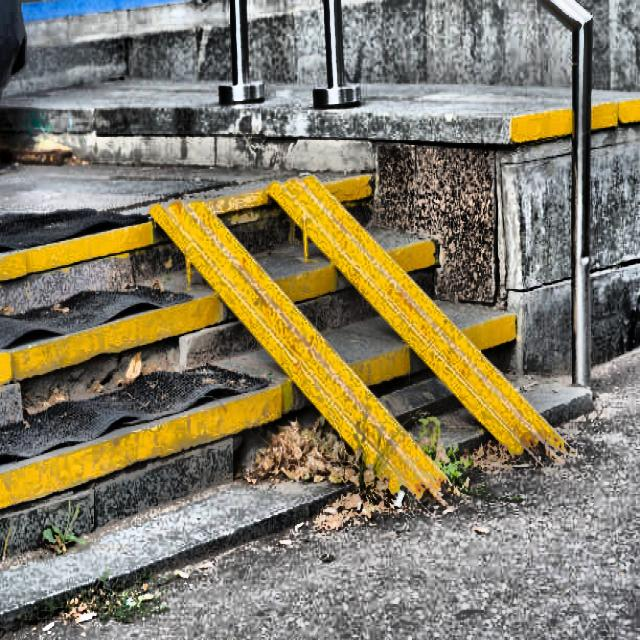escada: (0, 221, 359, 627)
